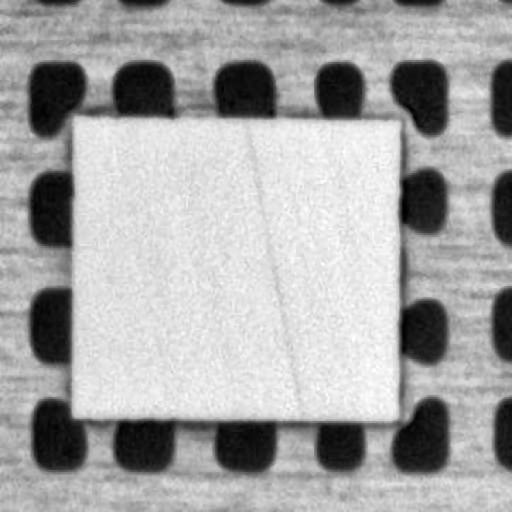DIE_CRACK: (242, 119, 307, 419)
